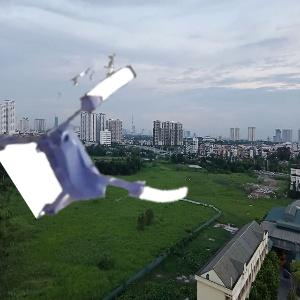drone: (16, 76, 188, 248)
